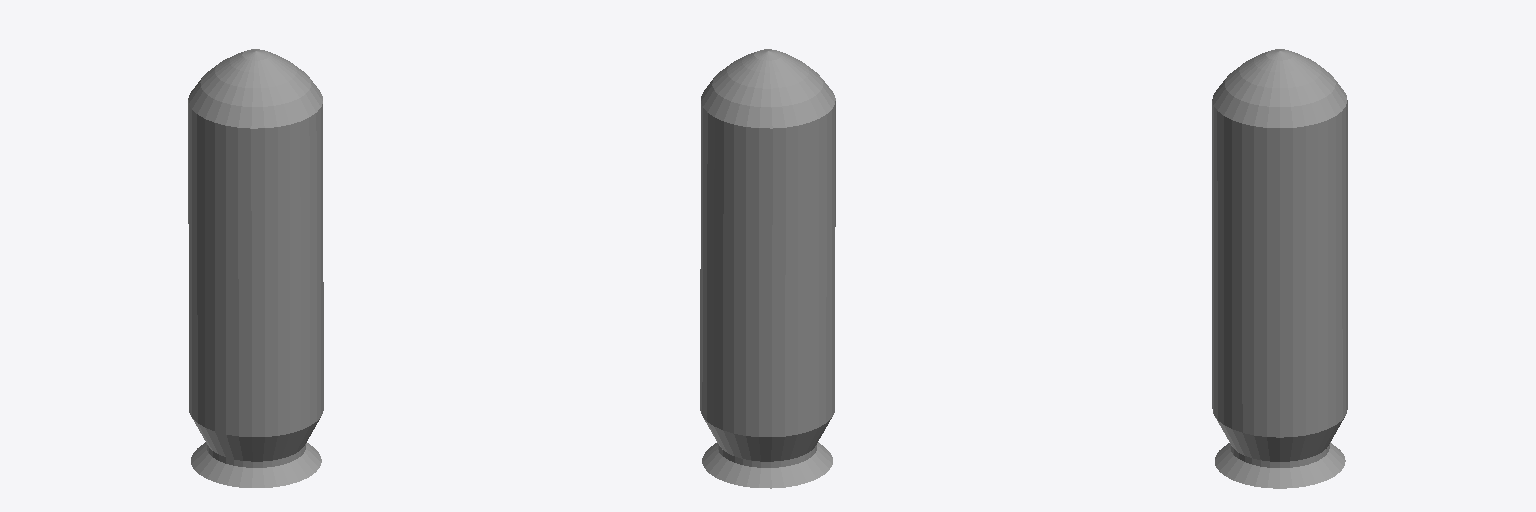
The model's file is missile.obj.
3 views of the same model, side by side, from view 1: azimuth 30°, elevation 25°; view 2: azimuth 150°, elevation 25°; view 3: azimuth 270°, elevation 25° (orthographic).
Parts seen in each view (by area): view 1: Cube; view 2: Cube; view 3: Cube.
Boxes of the visible parts, <box> form: Cube: <box>188,49,323,487</box>; Cube: <box>700,49,835,488</box>; Cube: <box>1212,49,1347,488</box>.
Bounding box in the file's own units: 1.35 × 4.5 × 1.35.